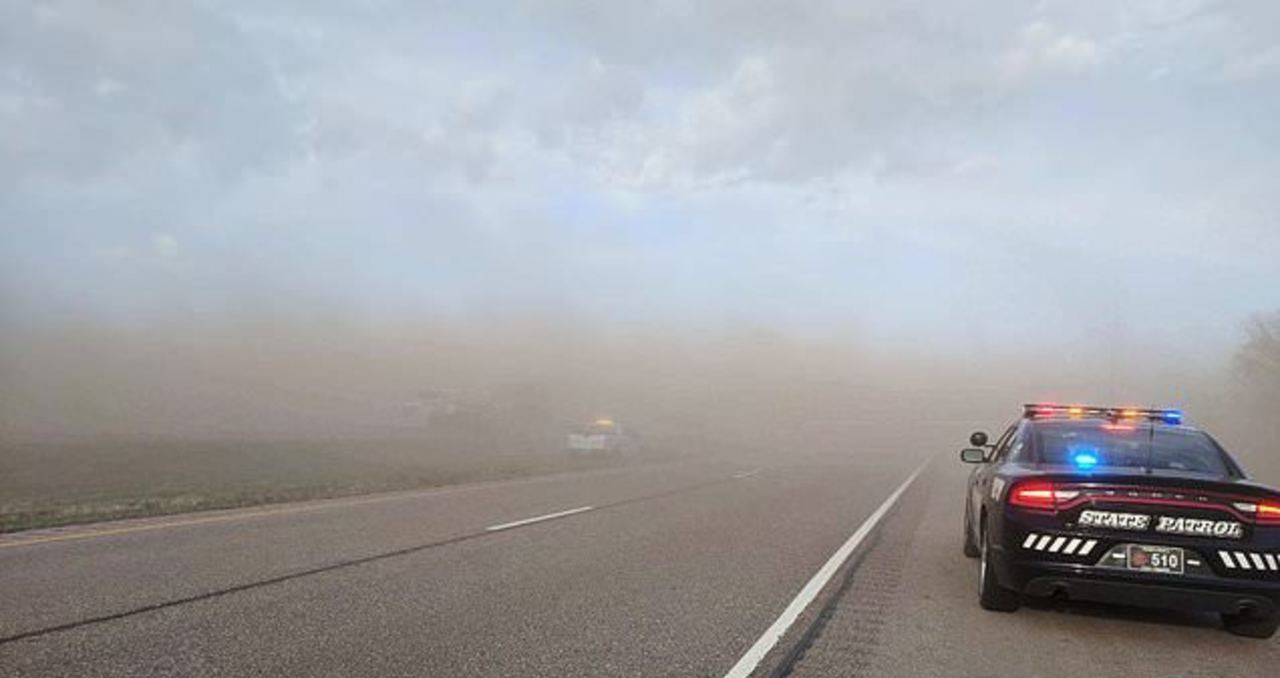car: (959, 402, 1279, 636), (566, 416, 644, 456)
